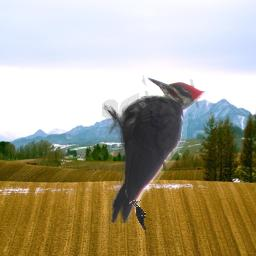Woodpecker: (102, 75, 207, 223), (129, 200, 146, 234)
